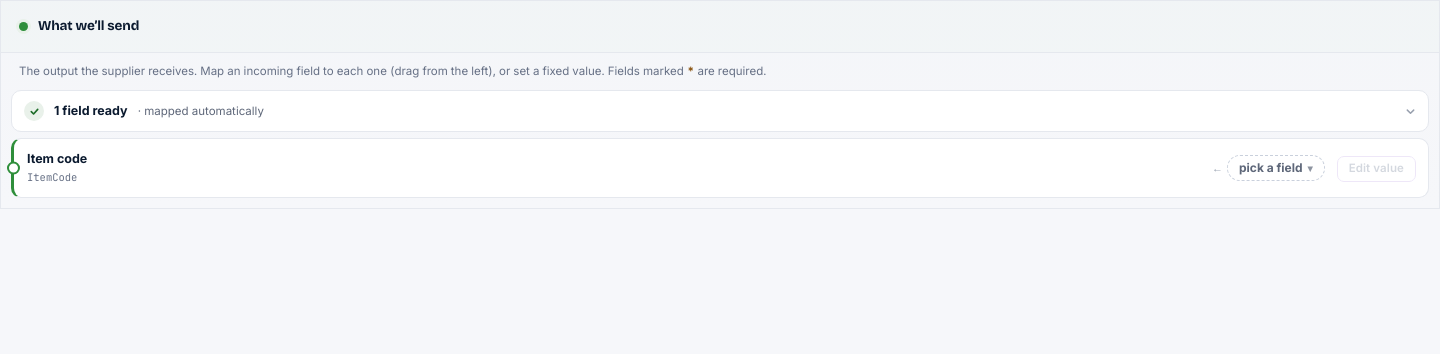
Test: OutgoingPane — a real model score is untouched › still shows 86% on the suggested source
Click the button "pick a field ▾" at (1276, 168), box [1227, 155, 1325, 181]
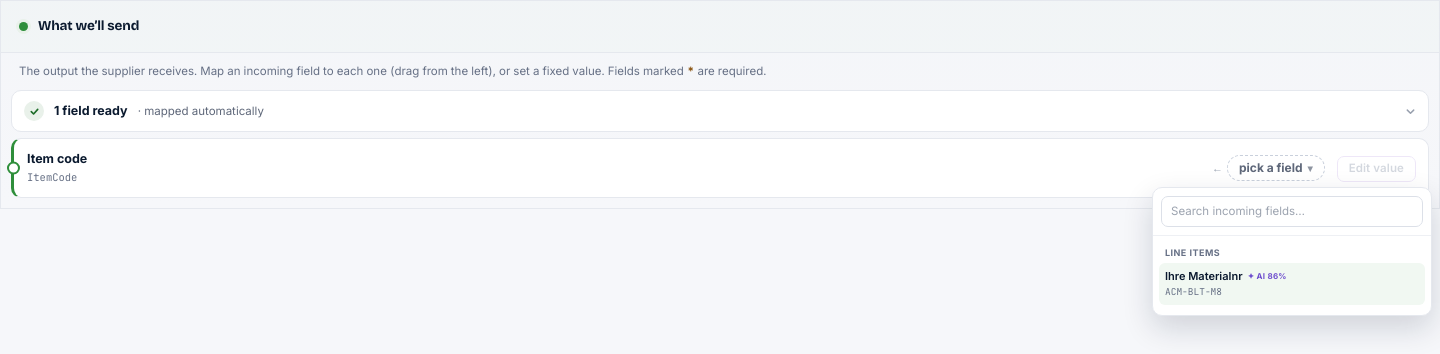
Now the option shows "✦ AI 86%", box [1159, 263, 1425, 305]
